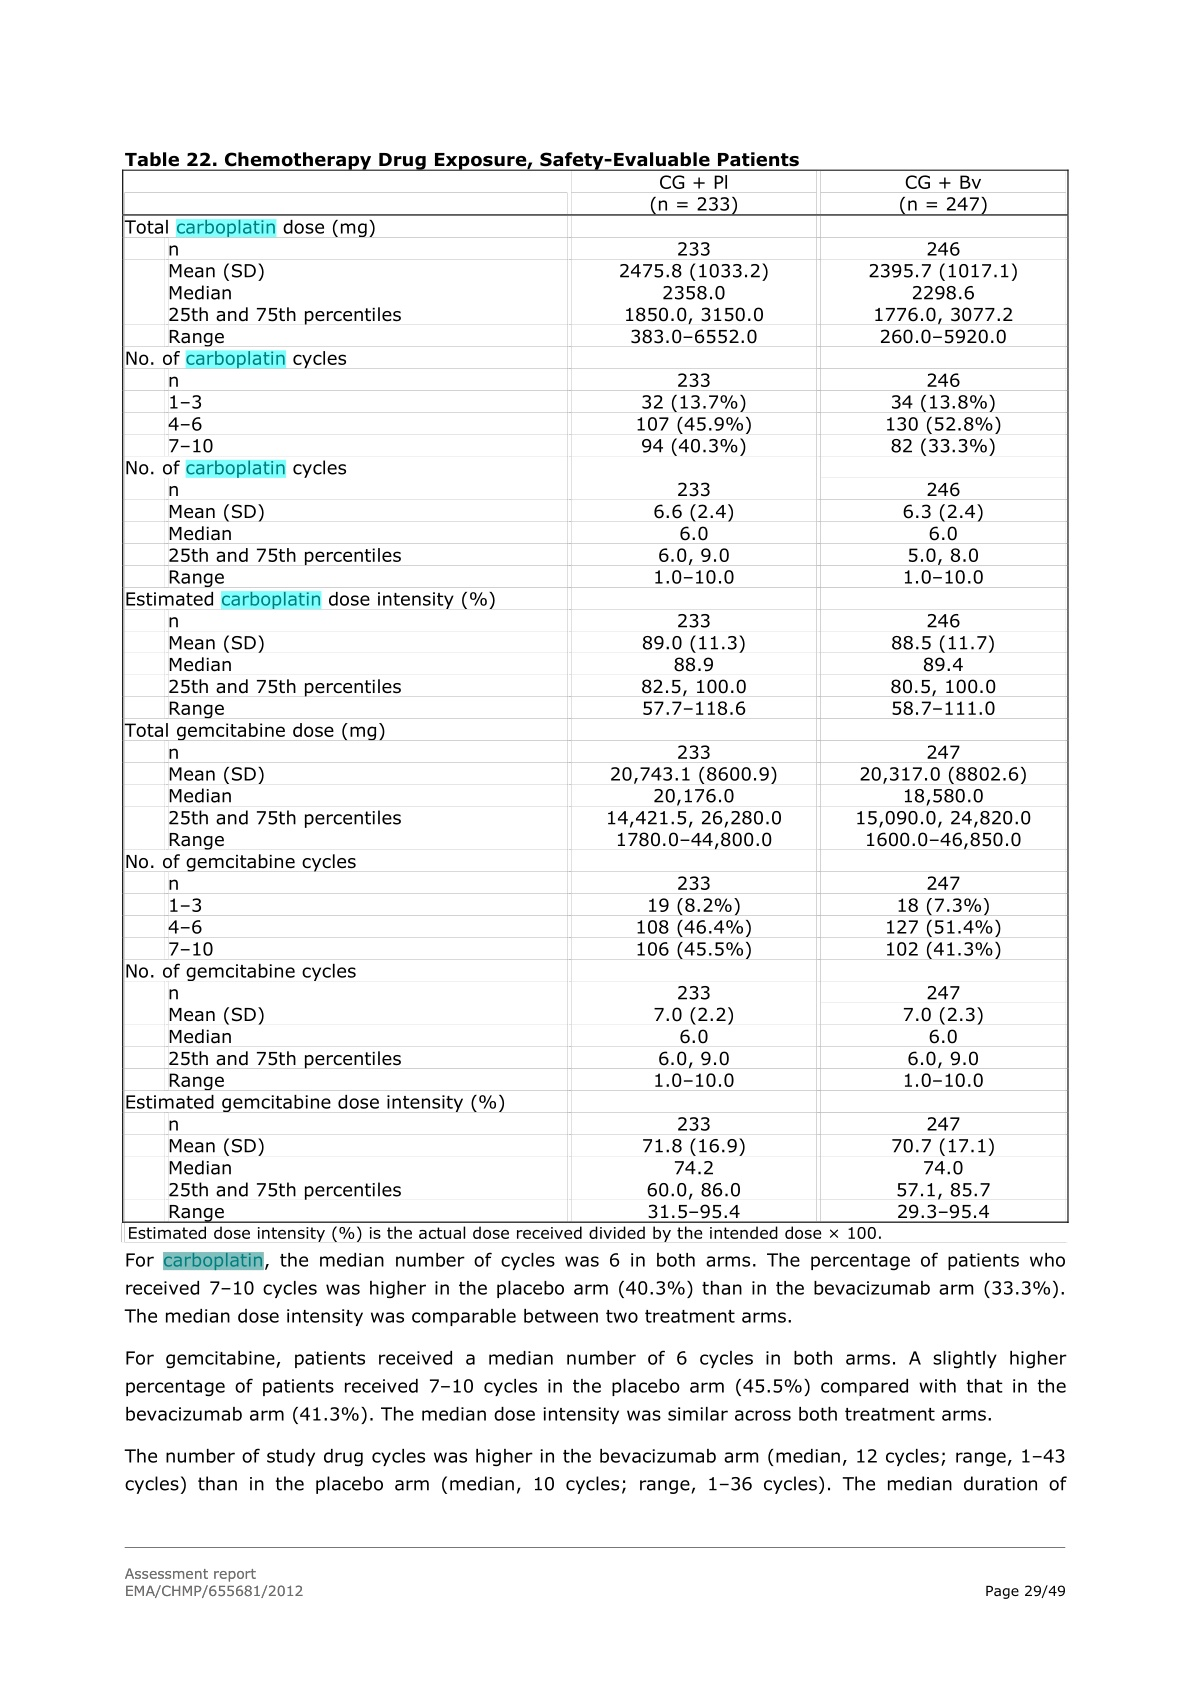partial_lined_merged_cells: (122, 167, 1072, 1227)
